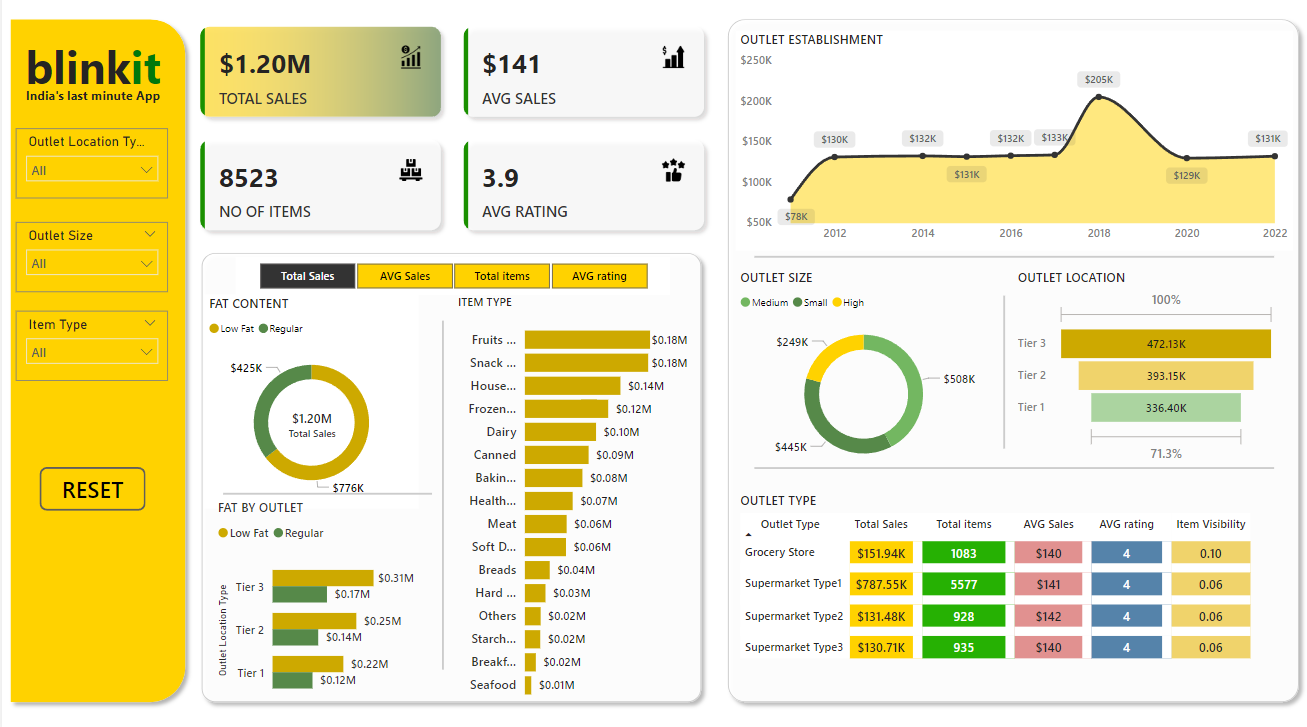

The page's visual inventory and layout, read from the dashboard file:
{"tool":"powerbi","page":{"name":"Page 1","canvas":[1400,800],"ordinal":0},"visuals":[{"type":"shape","box":[0,25.5,205.6,750.4],"z":0},{"type":"textbox","box":[0,46.5,195.1,76.5],"z":1000},{"type":"textbox","box":[0,102.1,195.1,76.5],"z":2000},{"type":"cardVisual","fields":{"Data":["BlinkIT Grocery Data.Toatal Sales","BlinkIT Grocery Data.AVG Sales","BlinkIT Grocery Data.Toatal iteams","BlinkIT Grocery Data.AVG rating"]},"box":[195.1,25.5,574.8,252.1],"z":3000},{"type":"shape","box":[205.6,276.2,553.8,499.8],"z":4000},{"type":"donutChart","title":"FAT CONTENT","fields":{"Y":["BlinkIT Grocery Data.Total Sales"],"Category":["BlinkIT Grocery Data.Item Fat Content"]},"box":[217.6,330.2,229.6,229.6],"z":5000},{"type":"slicer","fields":{"Values":["matrics.matrics"]},"box":[250.6,289.7,465.3,40.5],"z":6000},{"type":"cardVisual","fields":{"Data":["BlinkIT Grocery Data.Total Sales"]},"box":[271.7,421.7,121.6,93.1],"z":7000},{"type":"clusteredBarChart","title":"FAT BY OUTLET","fields":{"Y":["BlinkIT Grocery Data.Total Sales"],"Category":["BlinkIT Grocery Data.Outlet Location Type"],"Series":["BlinkIT Grocery Data.Item Fat Content"]},"box":[226.6,547.8,220.6,229.6],"z":8000},{"type":"shape","box":[217.6,532.8,264.2,22.5],"z":9000},{"type":"shape","box":[438.3,337.7,69,414.2],"z":10000},{"type":"clusteredBarChart","title":"ITEM TYPE","fields":{"Y":["BlinkIT Grocery Data.Total Sales"],"Category":["BlinkIT Grocery Data.Item Type"]},"box":[483.3,330.2,256.6,444.3],"z":11000},{"type":"shape","box":[769.9,25.5,630.4,750.4],"z":12000},{"type":"lineChart","title":"OUTLET ESTABLISHMENT","fields":{"Category":["BlinkIT Grocery Data.Outlet Establishment Year"],"Y":["BlinkIT Grocery Data.Toatal Sales"]},"box":[786.5,46.5,597.3,235.6],"z":13000},{"type":"shape","box":[786.5,279.2,597.3,21],"z":14000},{"type":"donutChart","title":"OUTLET SIZE","fields":{"Category":["BlinkIT Grocery Data.Outlet Size"],"Y":["BlinkIT Grocery Data.Toatal Sales"]},"box":[786.5,301.7,274.7,225.1],"z":15000},{"type":"funnel","title":"OUTLET LOCATION","fields":{"Y":["Sum(BlinkIT Grocery Data.Sales)"],"Category":["BlinkIT Grocery Data.Outlet Location Type"]},"box":[1085.1,301.7,286.7,213.1],"z":16000},{"type":"shape","box":[1040.1,310.7,69,204.1],"z":17000},{"type":"pivotTable","title":"OUTLET TYPE","fields":{"Rows":["BlinkIT Grocery Data.Outlet Type"],"Values":["BlinkIT Grocery Data.Toatal Sales","BlinkIT Grocery Data.Toatal iteams","BlinkIT Grocery Data.AVG Sales","BlinkIT Grocery Data.AVG rating","Avg(BlinkIT Grocery Data.Item Visibility)"]},"box":[786.5,541.8,597.3,235.6],"z":18000},{"type":"shape","box":[786.5,505.8,597.3,21],"z":19000},{"type":"slicer","fields":{"Values":["BlinkIT Grocery Data.Outlet Location Type"]},"box":[14.7,151.5,163.5,75.1],"z":20000},{"type":"slicer","fields":{"Values":["BlinkIT Grocery Data.Outlet Size"]},"box":[15,252.1,163.6,75],"z":21000},{"type":"slicer","fields":{"Values":["BlinkIT Grocery Data.Item Type"]},"box":[14.7,347.2,163.5,75.1],"z":22000},{"type":"actionButton","title":"RESET","box":[40.2,514.7,113.9,46.9],"z":23000}]}

Visuals, with their boxes in screenshot pixels (x1, y1, x2, y2), scaled from the page's 1400x800 canvas onto the 1307x727 screenshot:
shape: [x1=0, y1=23, x2=192, y2=705]
textbox: [x1=0, y1=42, x2=182, y2=112]
textbox: [x1=0, y1=93, x2=182, y2=162]
cardVisual - BlinkIT Grocery Data.Toatal Sales x BlinkIT Grocery Data.AVG Sales: [x1=182, y1=23, x2=719, y2=252]
shape: [x1=192, y1=251, x2=709, y2=705]
"FAT CONTENT" donutChart: [x1=203, y1=300, x2=417, y2=509]
slicer - matrics.matrics: [x1=234, y1=263, x2=668, y2=300]
cardVisual - BlinkIT Grocery Data.Total Sales: [x1=254, y1=383, x2=367, y2=468]
"FAT BY OUTLET" clusteredBarChart: [x1=212, y1=498, x2=417, y2=706]
shape: [x1=203, y1=484, x2=450, y2=505]
shape: [x1=409, y1=307, x2=474, y2=683]
"ITEM TYPE" clusteredBarChart: [x1=451, y1=300, x2=691, y2=704]
shape: [x1=719, y1=23, x2=1306, y2=705]
"OUTLET ESTABLISHMENT" lineChart: [x1=734, y1=42, x2=1292, y2=256]
shape: [x1=734, y1=254, x2=1292, y2=273]
"OUTLET SIZE" donutChart: [x1=734, y1=274, x2=991, y2=479]
"OUTLET LOCATION" funnel: [x1=1013, y1=274, x2=1281, y2=468]
shape: [x1=971, y1=282, x2=1035, y2=468]
"OUTLET TYPE" pivotTable: [x1=734, y1=492, x2=1292, y2=706]
shape: [x1=734, y1=460, x2=1292, y2=479]
slicer - BlinkIT Grocery Data.Outlet Location Type: [x1=14, y1=138, x2=166, y2=206]
slicer - BlinkIT Grocery Data.Outlet Size: [x1=14, y1=229, x2=167, y2=297]
slicer - BlinkIT Grocery Data.Item Type: [x1=14, y1=316, x2=166, y2=384]
"RESET" actionButton: [x1=38, y1=468, x2=144, y2=510]
